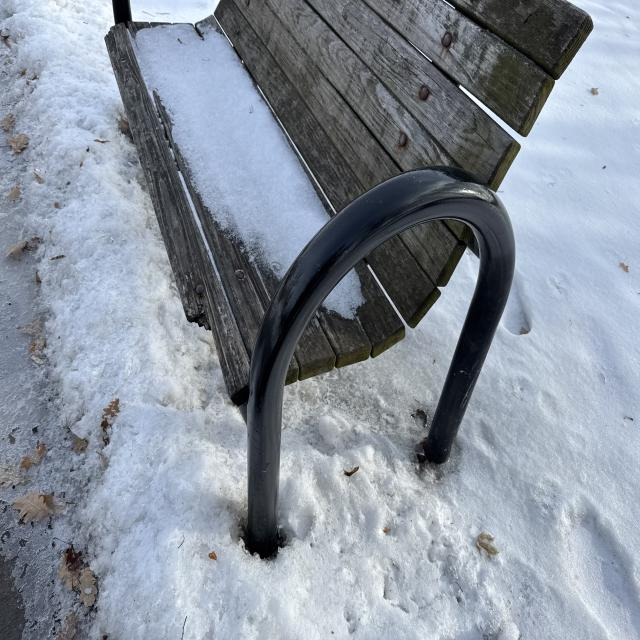Bench: (103, 0, 546, 502)
